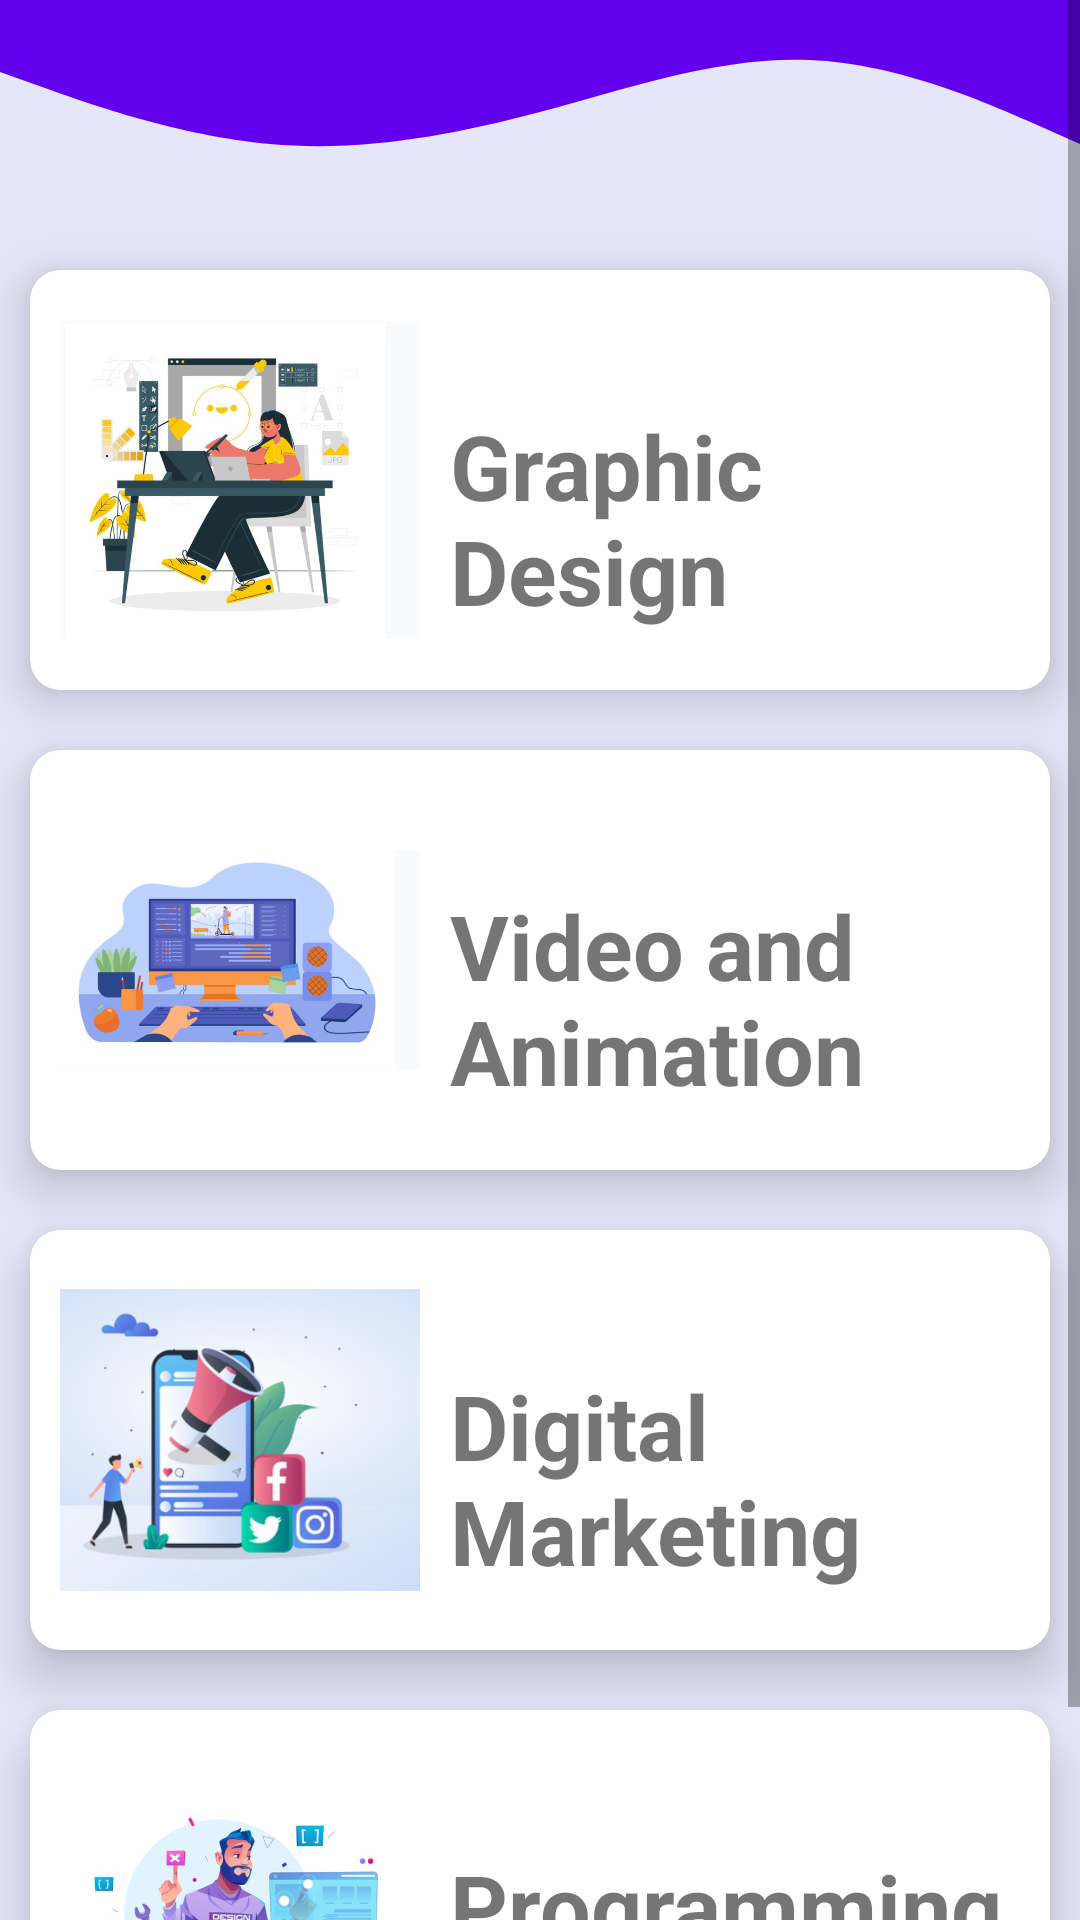

Where icons sit on this 1080px x 1920px app screen, as (left=x1, top=y1, right=x2, bottom=y2):
vdeoanimation: (left=78, top=862, right=376, bottom=1043)
